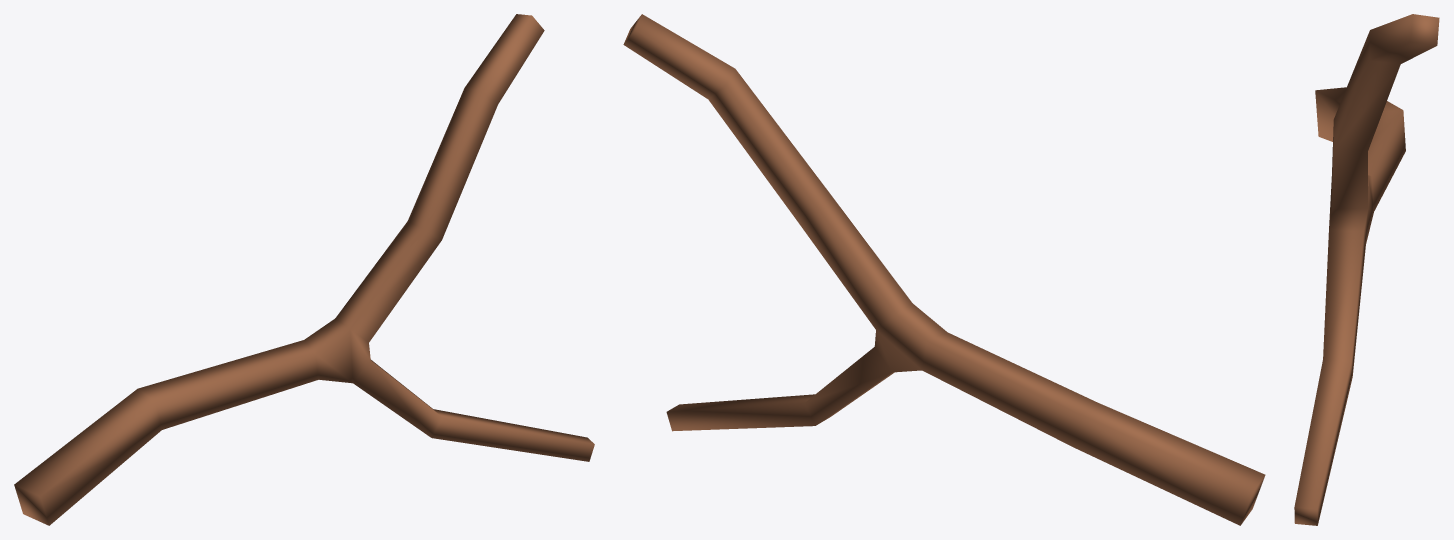
The model's file is Stick_Brown_6.fbx.
3 renders of one model, left to right at view 1: azimuth 30°, elevation 25°; view 2: azimuth 150°, elevation 25°; view 3: azimuth 270°, elevation 25°, orthographic. The views are drawn at different scales.
Parts seen in each view (by area): view 1: Stick_Brown_6; view 2: Stick_Brown_6; view 3: Stick_Brown_6.
Part boxes in pixels (x1=…): Stick_Brown_6: x1=14, y1=14, x2=594, y2=525; Stick_Brown_6: x1=623, y1=14, x2=1265, y2=525; Stick_Brown_6: x1=1294, y1=14, x2=1439, y2=525.
Size of the model in its own units: 216 by 154 by 40.
